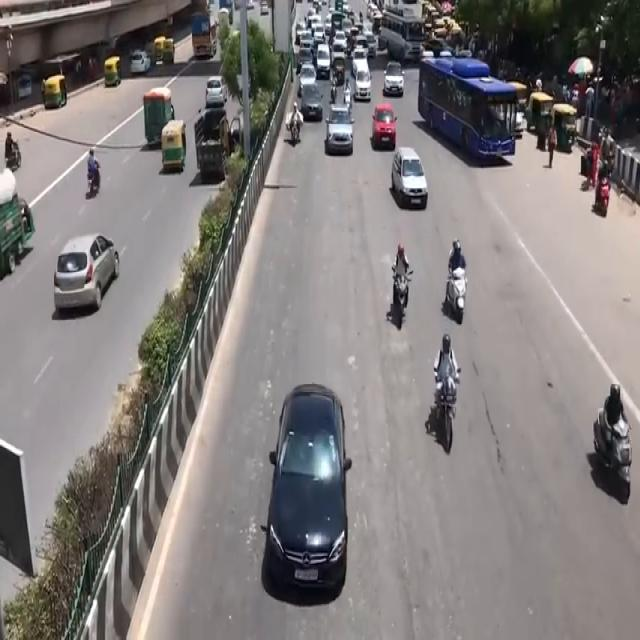BUS: (418, 55, 518, 173)
MOTORCYCLE: (436, 372, 457, 456), (447, 267, 466, 325), (396, 271, 412, 332)
SED: (270, 385, 346, 587)
